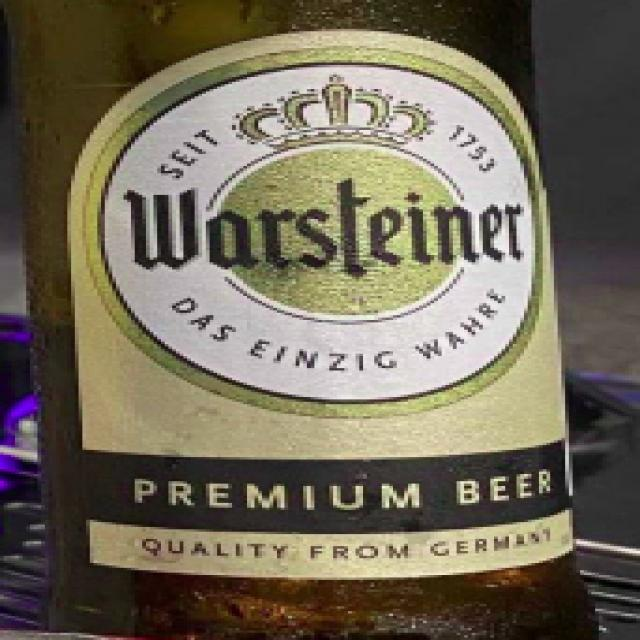Warsteiner Premium: (0, 2, 640, 640)
